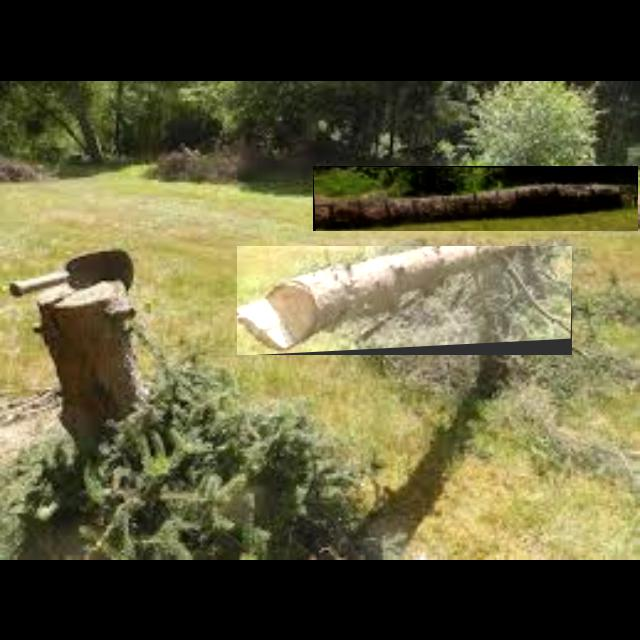Fallen Tree: (237, 246, 573, 356), (313, 166, 639, 232)
